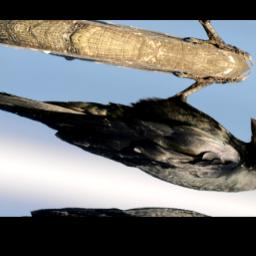Crow: (0, 26, 256, 204)
